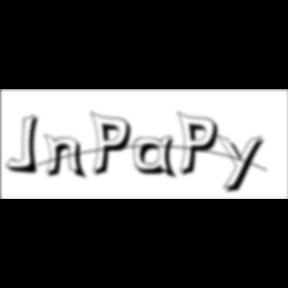J: (6, 114, 44, 176)
P: (90, 110, 138, 180), (178, 110, 224, 180)
a: (134, 135, 182, 182)
n: (44, 132, 90, 181)
y: (216, 132, 270, 196)
